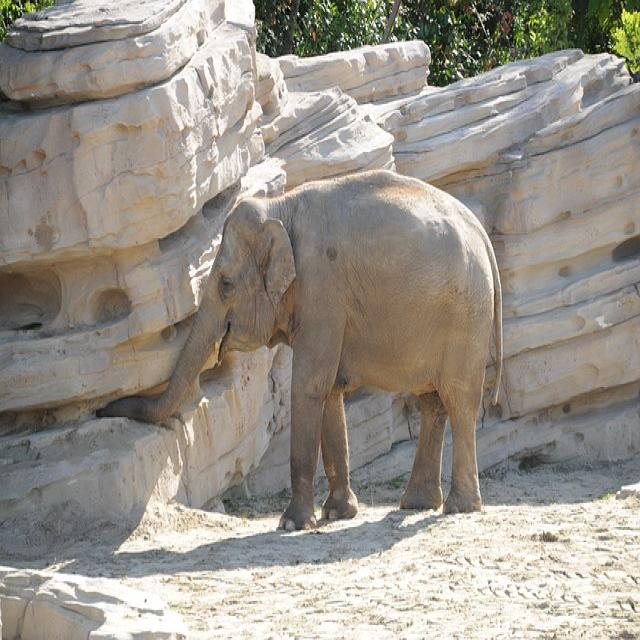FIL: (139, 165, 524, 530)
